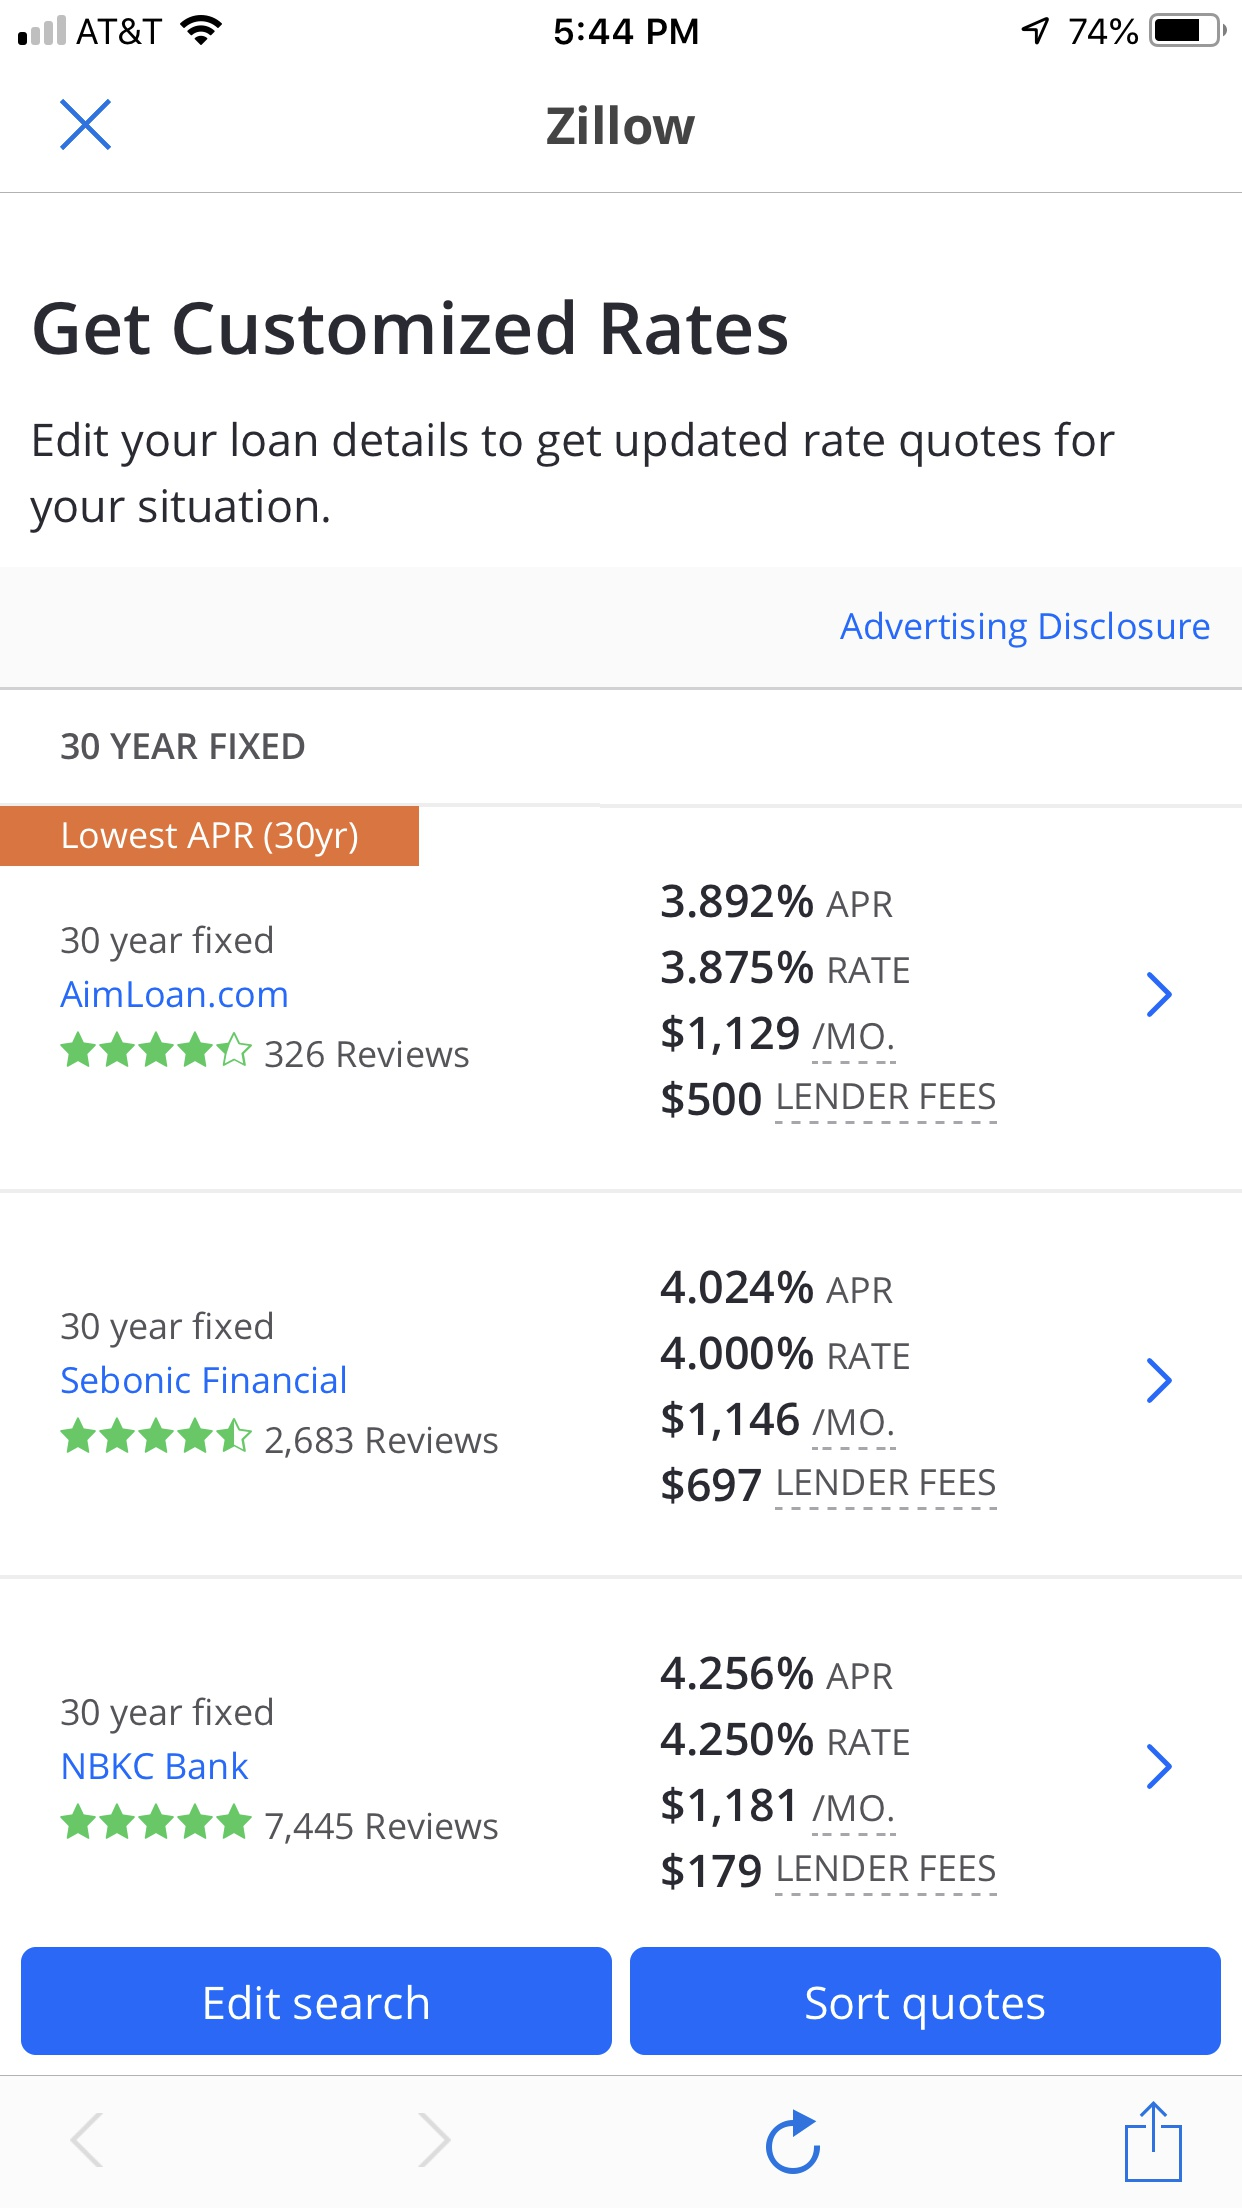Icon: (61, 1416, 253, 1454), (61, 1802, 253, 1839), (61, 1031, 253, 1068), (1124, 2100, 1183, 2184), (764, 2108, 820, 2175), (61, 99, 114, 152), (70, 2112, 105, 2169), (419, 2112, 453, 2169), (1142, 1739, 1175, 1788), (1143, 1356, 1174, 1404), (1143, 971, 1174, 1018)
Text: (29, 422, 1116, 535), (35, 299, 789, 356), (840, 611, 1212, 651), (663, 1081, 996, 1119), (663, 1466, 996, 1504), (663, 1853, 996, 1891), (64, 822, 359, 858), (663, 1400, 895, 1442), (663, 1015, 895, 1055), (663, 1786, 895, 1827), (663, 949, 910, 986), (661, 1335, 910, 1369), (661, 1721, 910, 1756), (62, 1365, 347, 1395), (661, 1269, 895, 1306), (61, 924, 274, 963), (61, 1310, 274, 1350), (62, 1695, 274, 1735), (661, 1656, 895, 1691), (663, 884, 895, 919), (265, 1425, 499, 1459), (265, 1812, 499, 1846), (61, 732, 306, 761), (59, 980, 288, 1008), (547, 105, 696, 146), (265, 1040, 470, 1069), (64, 1752, 250, 1780)
TextButton: (629, 1946, 1222, 2056), (21, 1947, 613, 2056)
UpperTaskBar: (2, 2, 1242, 49)
